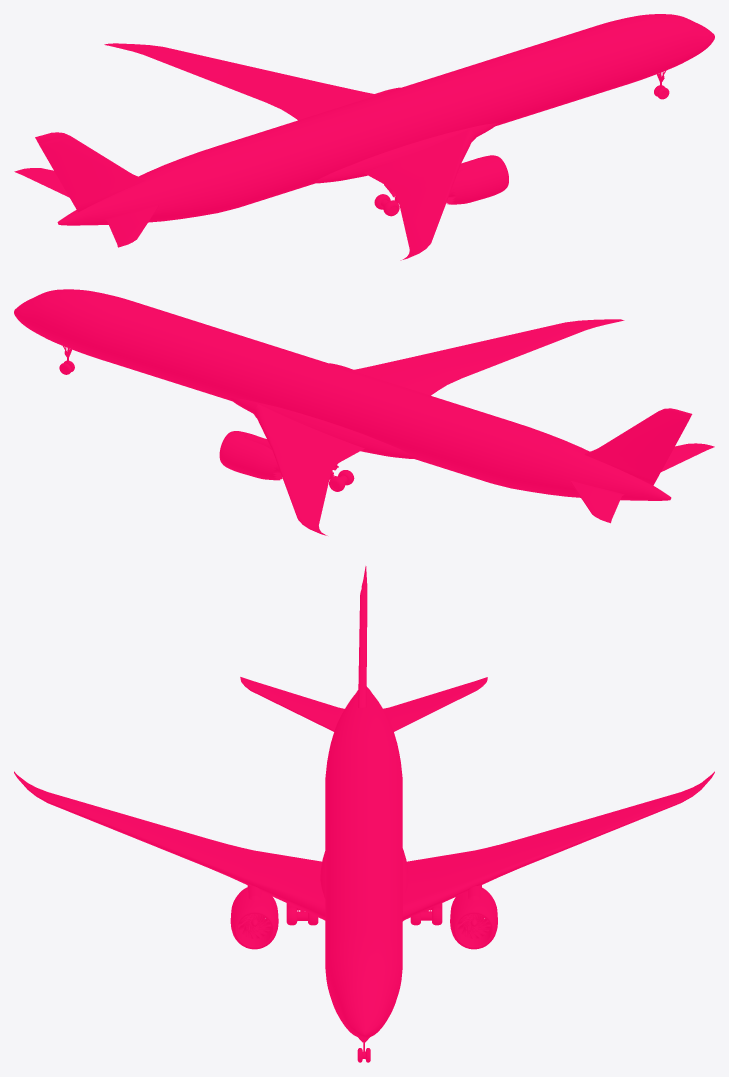
The model's file is airplane-01.glb.
The picture shows the model from 3 angles, top to bottom: view 1: azimuth 30°, elevation 25°; view 2: azimuth 150°, elevation 25°; view 3: azimuth 270°, elevation 25°; orthographic projection. The views are drawn at different scales.
Visible parts, largest first — view 1: Airplane; view 2: Airplane; view 3: Airplane.
Boxes of the visible parts, x1,y1,x2,y2 form: Airplane: [14, 14, 714, 260]; Airplane: [14, 289, 714, 535]; Airplane: [14, 566, 714, 1062].
Size of the model in its own units: 7.92 by 1.51 by 5.96.
